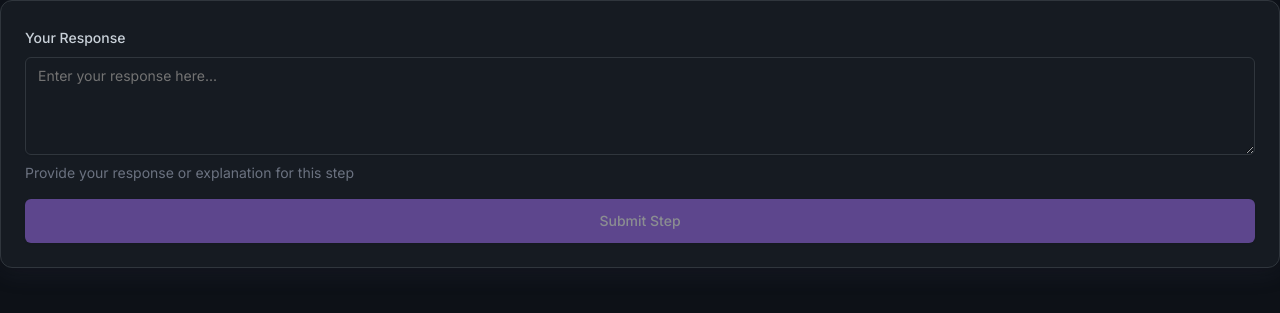
Test case: OnboardingSubmissionForm › Text Submission Type › validates minimum text length and shows error for short text
Step 1. Type "Hi" into the text box labelled "Your Response" → (640, 106), box [25, 57, 1255, 155]
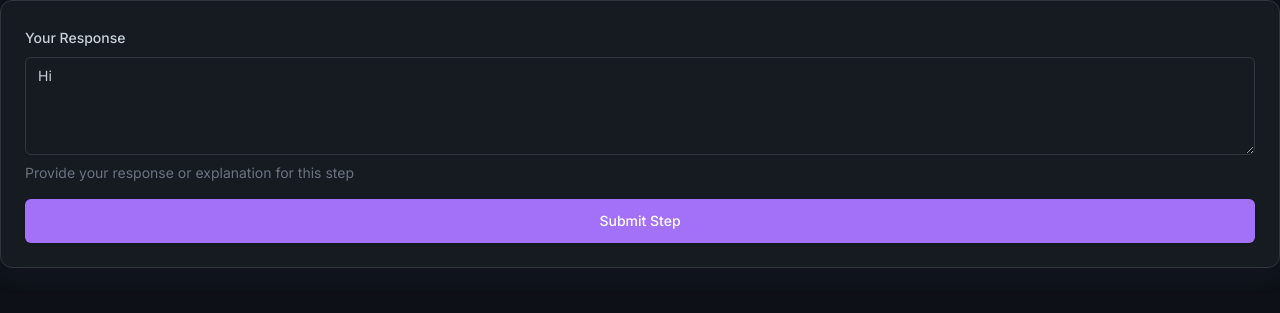
Step 2. Click the button "Submit Step" → (640, 221), box [25, 199, 1255, 243]
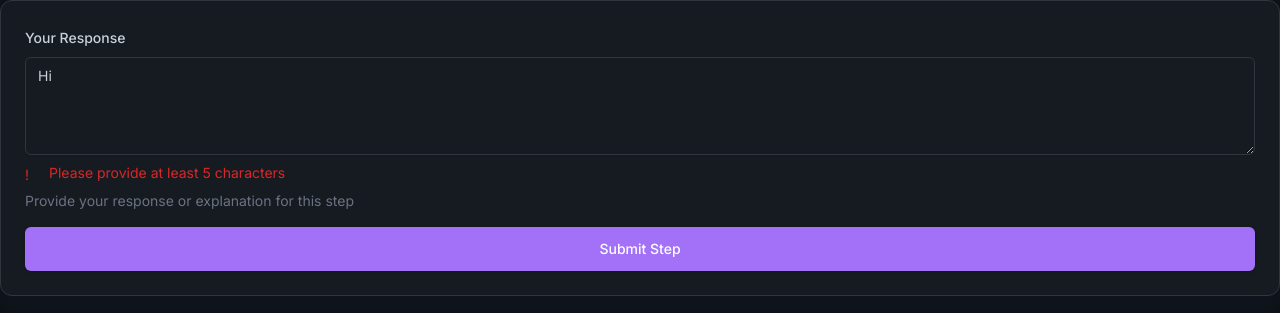
Expected: the text "!" is shown, [25, 166, 29, 183]
Expected: the text "Please provide at least 5 characters" is shown, [49, 163, 285, 183]
